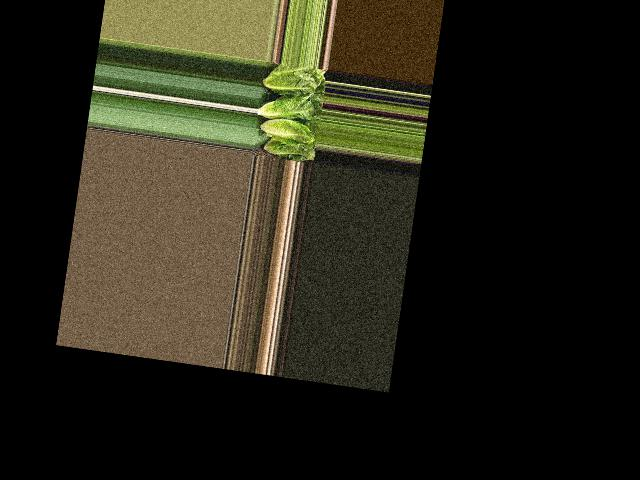lettuce: (264, 137, 316, 159)
